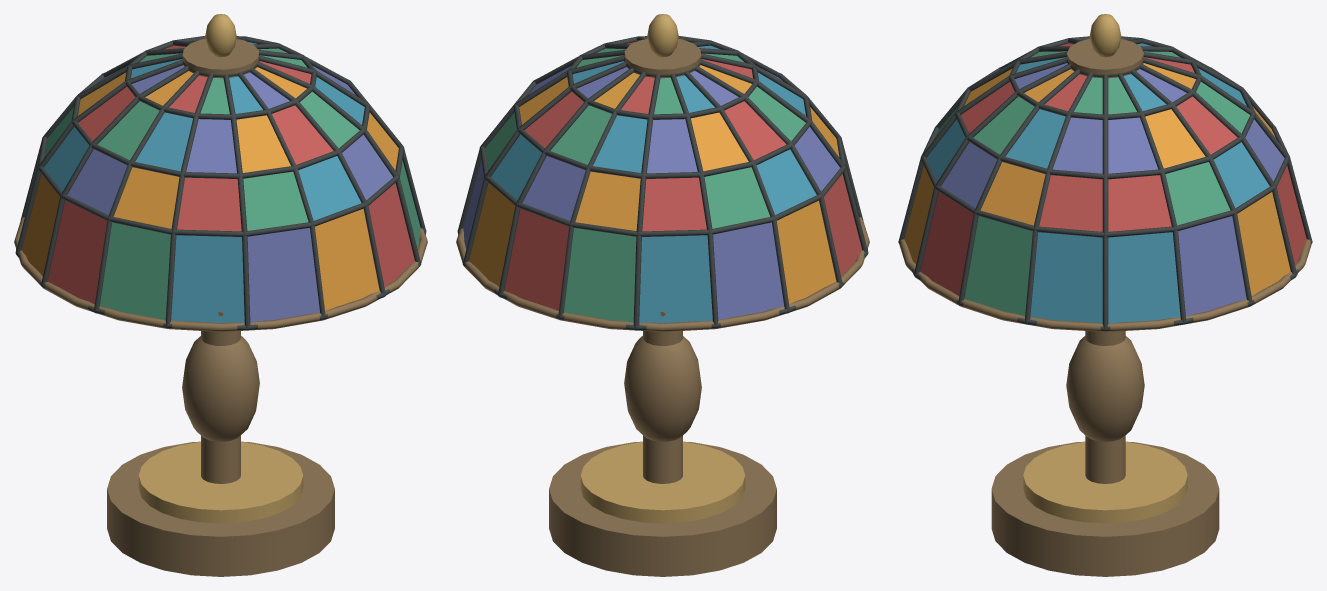
Rendered from lamp_stained_glass.glb.
The picture shows the model from 3 angles, left to right: view 1: azimuth 30°, elevation 25°; view 2: azimuth 150°, elevation 25°; view 3: azimuth 270°, elevation 25°; orthographic projection.
Parts seen in each view (by area): view 1: Stained_Lamp_Bronze_Base, Stained_Lamp_Base_Upper, Stained_Lamp_Stem_Ornament, Stained_Shade_Panel_3_10, Stained_Shade_Panel_3_11, Stained_Shade_Panel_3_09, Stained_Shade_Panel_3_12, Stained_Shade_Panel_3_08, Stained_Shade_Bottom_Rim, Stained_Shade_Panel_2_10, Stained_Shade_Panel_2_11, Stained_Shade_Panel_2_09 (+38 smaller); view 2: Stained_Lamp_Bronze_Base, Stained_Lamp_Base_Upper, Stained_Lamp_Stem_Ornament, Stained_Shade_Panel_3_05, Stained_Shade_Panel_3_04, Stained_Shade_Panel_3_06, Stained_Shade_Panel_3_03, Stained_Shade_Panel_3_07, Stained_Shade_Bottom_Rim, Stained_Shade_Panel_2_05, Stained_Shade_Panel_2_04, Stained_Shade_Panel_2_06 (+38 smaller); view 3: Stained_Lamp_Bronze_Base, Stained_Lamp_Base_Upper, Stained_Lamp_Stem_Ornament, Stained_Shade_Panel_3_00, Stained_Shade_Panel_3_15, Stained_Shade_Panel_3_01, Stained_Shade_Panel_3_14, Stained_Shade_Bottom_Rim, Stained_Shade_Panel_3_02, Stained_Shade_Panel_3_13, Stained_Shade_Panel_2_00, Stained_Shade_Panel_2_15 (+39 smaller).
Part boxes in pixels (left/top/right/bottom): Stained_Lamp_Bronze_Base: left=107, top=441, right=334, bottom=576; Stained_Lamp_Base_Upper: left=138, top=442, right=303, bottom=523; Stained_Lamp_Stem_Ornament: left=182, top=336, right=259, bottom=441; Stained_Shade_Panel_3_10: left=171, top=235, right=244, bottom=323; Stained_Shade_Panel_3_11: left=247, top=228, right=319, bottom=322; Stained_Shade_Panel_3_09: left=100, top=222, right=170, bottom=319; Stained_Shade_Panel_3_12: left=315, top=208, right=379, bottom=310; Stained_Shade_Panel_3_08: left=47, top=200, right=106, bottom=304; Stained_Shade_Bottom_Rim: left=14, top=217, right=427, bottom=331; Stained_Shade_Panel_2_10: left=177, top=177, right=241, bottom=231; Stained_Shade_Panel_2_11: left=243, top=171, right=308, bottom=230; Stained_Shade_Panel_2_09: left=113, top=167, right=179, bottom=228; Stained_Lamp_Bronze_Base: left=549, top=441, right=776, bottom=576; Stained_Lamp_Base_Upper: left=580, top=442, right=745, bottom=523; Stained_Lamp_Stem_Ornament: left=624, top=336, right=701, bottom=441; Stained_Shade_Panel_3_05: left=639, top=235, right=712, bottom=323; Stained_Shade_Panel_3_04: left=564, top=228, right=636, bottom=322; Stained_Shade_Panel_3_06: left=713, top=222, right=783, bottom=319; Stained_Shade_Panel_3_03: left=504, top=208, right=568, bottom=310; Stained_Shade_Panel_3_07: left=777, top=200, right=836, bottom=304; Stained_Shade_Bottom_Rim: left=456, top=217, right=869, bottom=331; Stained_Shade_Panel_2_05: left=642, top=177, right=706, bottom=231; Stained_Shade_Panel_2_04: left=575, top=171, right=640, bottom=230; Stained_Shade_Panel_2_06: left=704, top=167, right=770, bottom=228; Stained_Lamp_Bronze_Base: left=991, top=441, right=1219, bottom=576; Stained_Lamp_Base_Upper: left=1023, top=442, right=1187, bottom=523; Stained_Lamp_Stem_Ornament: left=1066, top=336, right=1144, bottom=441; Stained_Shade_Panel_3_00: left=1108, top=232, right=1180, bottom=323; Stained_Shade_Panel_3_15: left=1030, top=232, right=1102, bottom=323; Stained_Shade_Panel_3_01: left=1178, top=216, right=1246, bottom=316; Stained_Shade_Panel_3_14: left=964, top=216, right=1032, bottom=316; Stained_Shade_Bottom_Rim: left=899, top=239, right=1311, bottom=331; Stained_Shade_Panel_3_02: left=1237, top=192, right=1290, bottom=295; Stained_Shade_Panel_3_13: left=920, top=192, right=973, bottom=295; Stained_Shade_Panel_2_00: left=1108, top=175, right=1171, bottom=231; Stained_Shade_Panel_2_15: left=1039, top=175, right=1102, bottom=231.
Size of the model in its own units: 0.655 by 0.8968 by 0.655.
